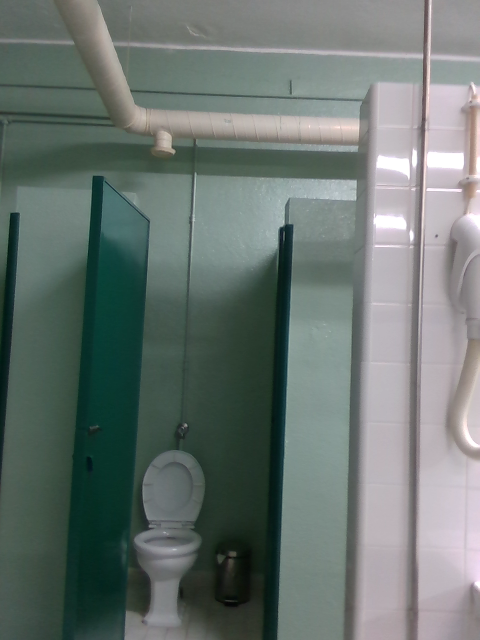open: (38, 161, 145, 639)
